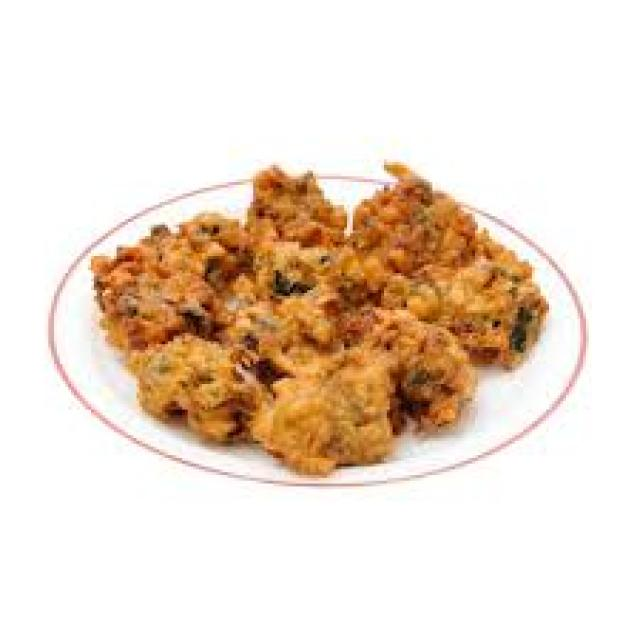BAJI: (113, 170, 548, 464)
